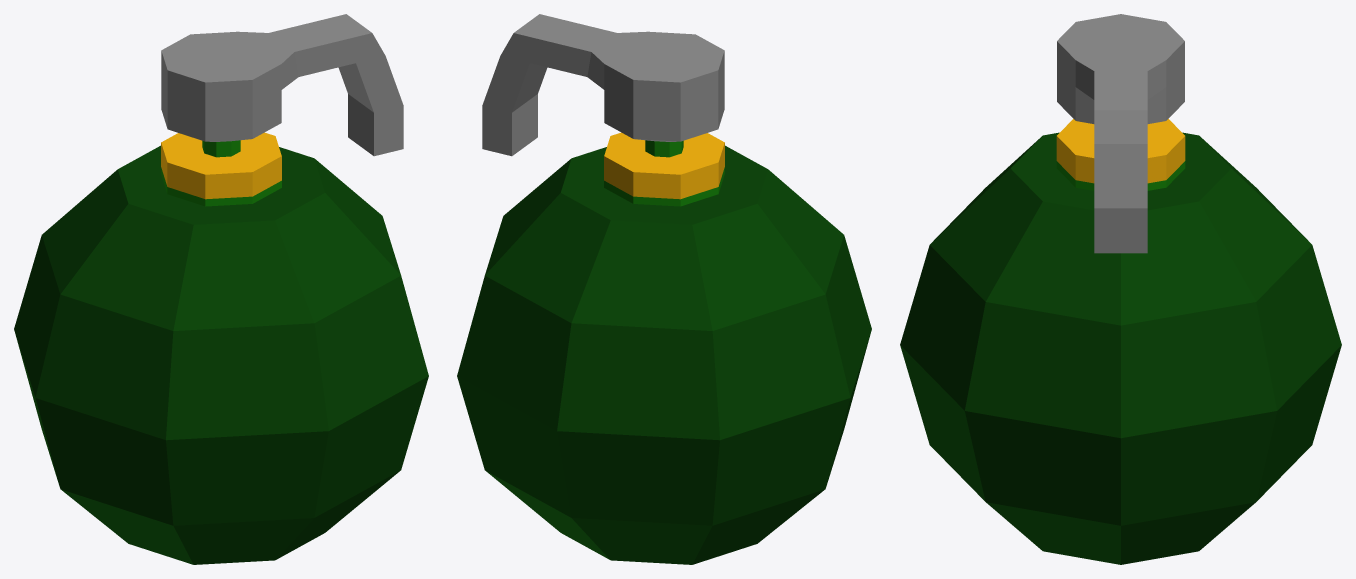
File: military_man_granade.fbx
The picture shows the model from 3 angles, left to right: view 1: azimuth 30°, elevation 25°; view 2: azimuth 150°, elevation 25°; view 3: azimuth 270°, elevation 25°; orthographic projection. The views are drawn at different scales.
Parts seen in each view (by area): view 1: granade; view 2: granade; view 3: granade.
Part boxes in pixels (x1,y1,x2,y2): granade: (14, 14, 428, 564); granade: (457, 14, 871, 564); granade: (900, 14, 1341, 564).
Bounding box in the file's own units: 61.48 × 77.38 × 61.48.
1 material, 1 textured.
